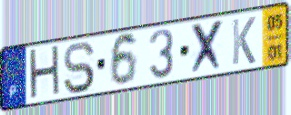3: (148, 28, 176, 82)
6: (107, 31, 140, 90)
H: (27, 43, 63, 104)
K: (231, 15, 258, 67)
S: (62, 40, 96, 96)
X: (189, 17, 226, 78)
